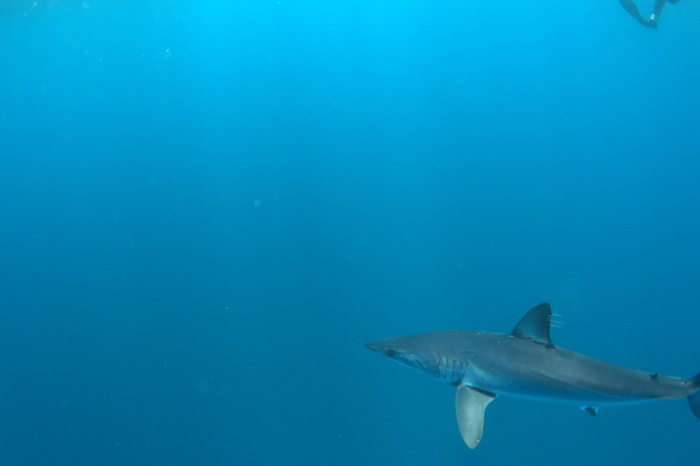Mako: (356, 297, 700, 460)
